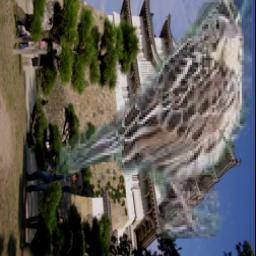Sparrow: (55, 0, 251, 239)
